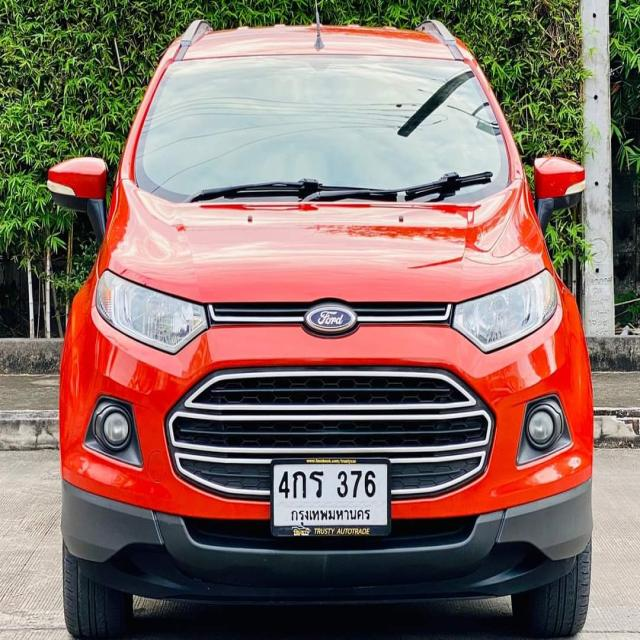license_plate: (269, 456, 394, 539)
